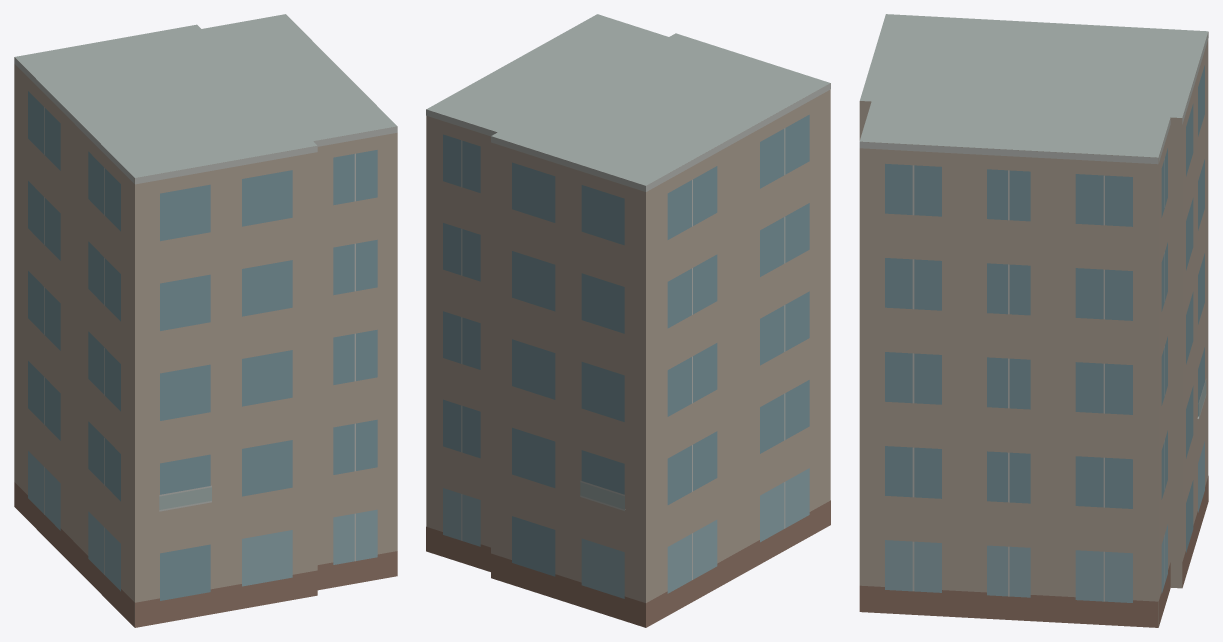
The model's file is survey-upis-32955608.glb.
3 views of the same model, side by side, from view 1: azimuth 30°, elevation 25°; view 2: azimuth 150°, elevation 25°; view 3: azimuth 270°, elevation 25° (orthographic). The views are drawn at different scales.
Visible parts, largest first — view 1: survey-upis-32955608.tmp; view 2: survey-upis-32955608.tmp; view 3: survey-upis-32955608.tmp.
Boxes of the visible parts, x1,y1,x2,y2 form: survey-upis-32955608.tmp: (14, 14, 397, 627); survey-upis-32955608.tmp: (426, 14, 830, 627); survey-upis-32955608.tmp: (859, 14, 1208, 627).
Bounding box in the file's own units: 11.27 × 17.2 × 11.58.
